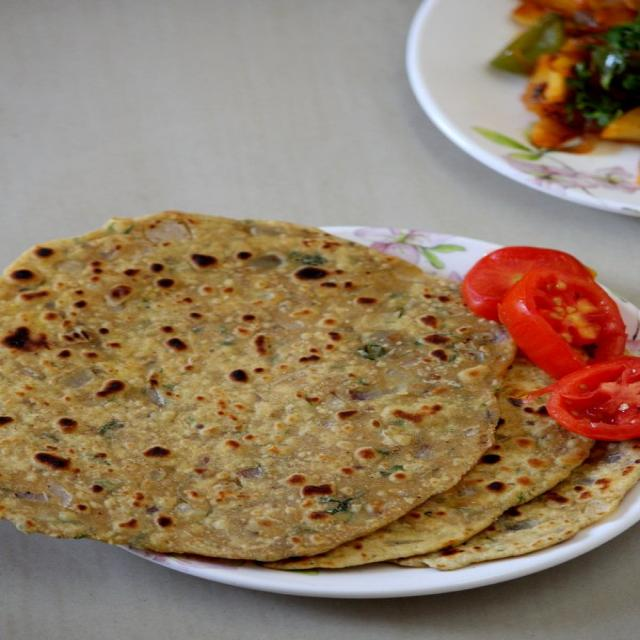paratha: (0, 212, 513, 560)
